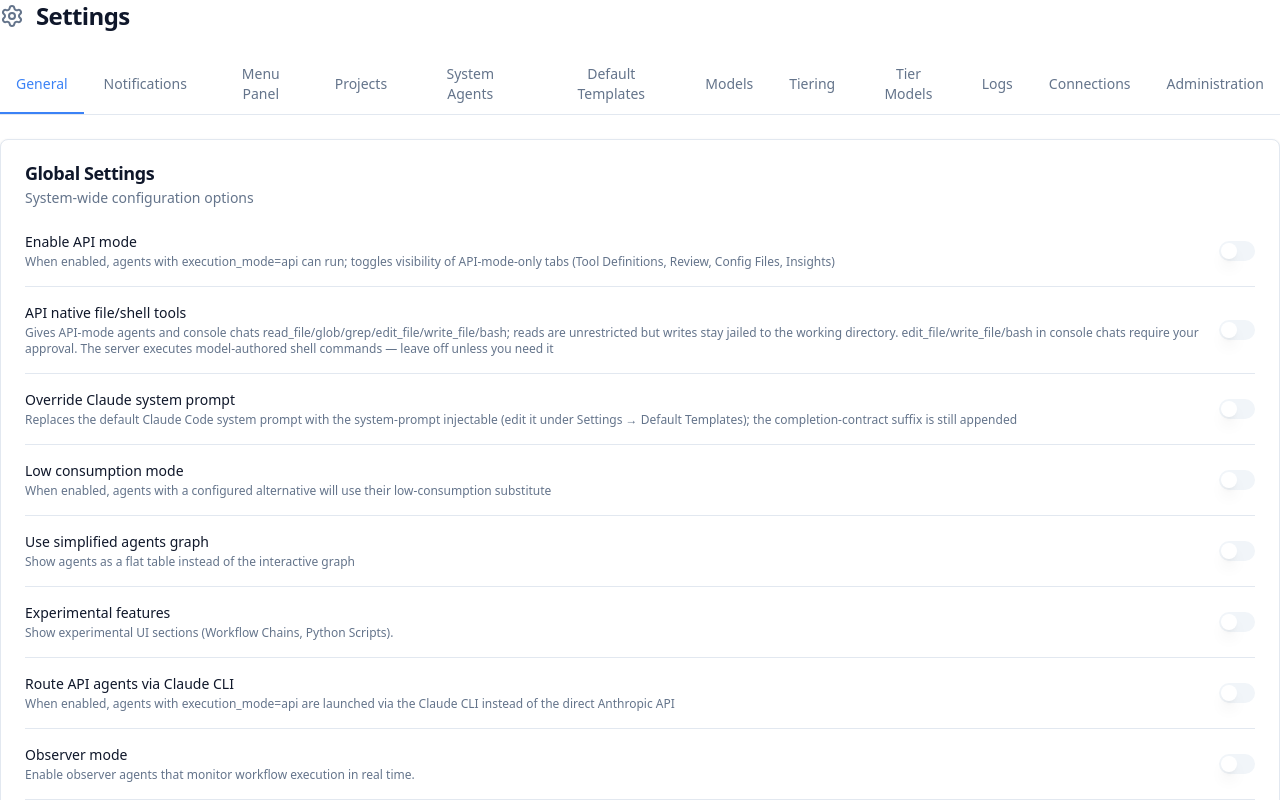
Test case: SettingsPage - Tiering tab › Tiering tab button is present and selecting it renders TieringSection
Click the button "Tiering". click: (812, 85)
box: [773, 56, 851, 114]
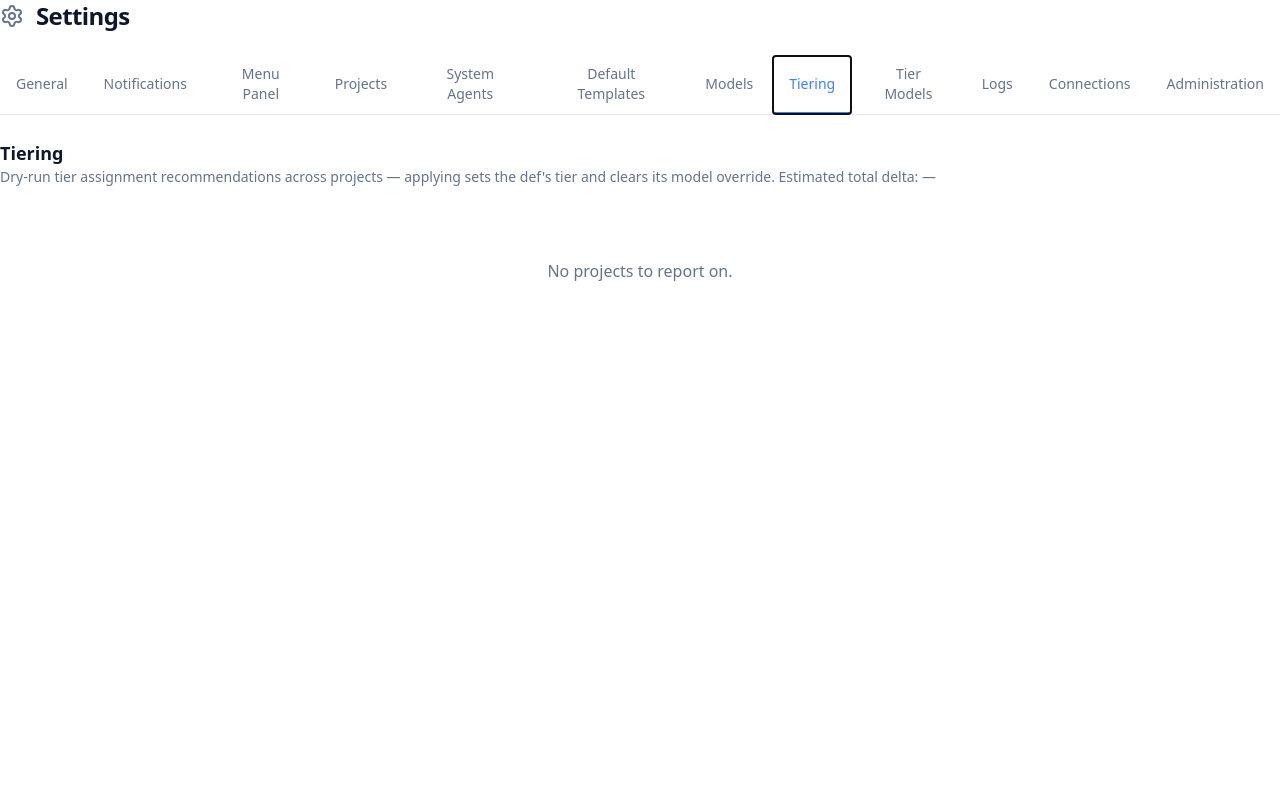
Expected: the heading "Tiering" is shown, [0, 141, 63, 165]
Expected: the text "No projects to report on." is shown, [548, 260, 733, 282]
